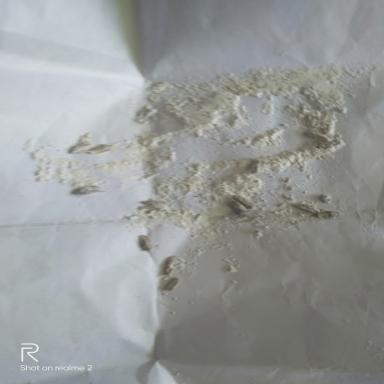pbw: (71, 184, 107, 195), (304, 128, 332, 142), (232, 193, 254, 209), (290, 203, 322, 213), (228, 198, 248, 214), (164, 256, 178, 277), (68, 142, 92, 154), (86, 144, 112, 154), (138, 234, 152, 251), (164, 278, 181, 292), (314, 210, 340, 219)
